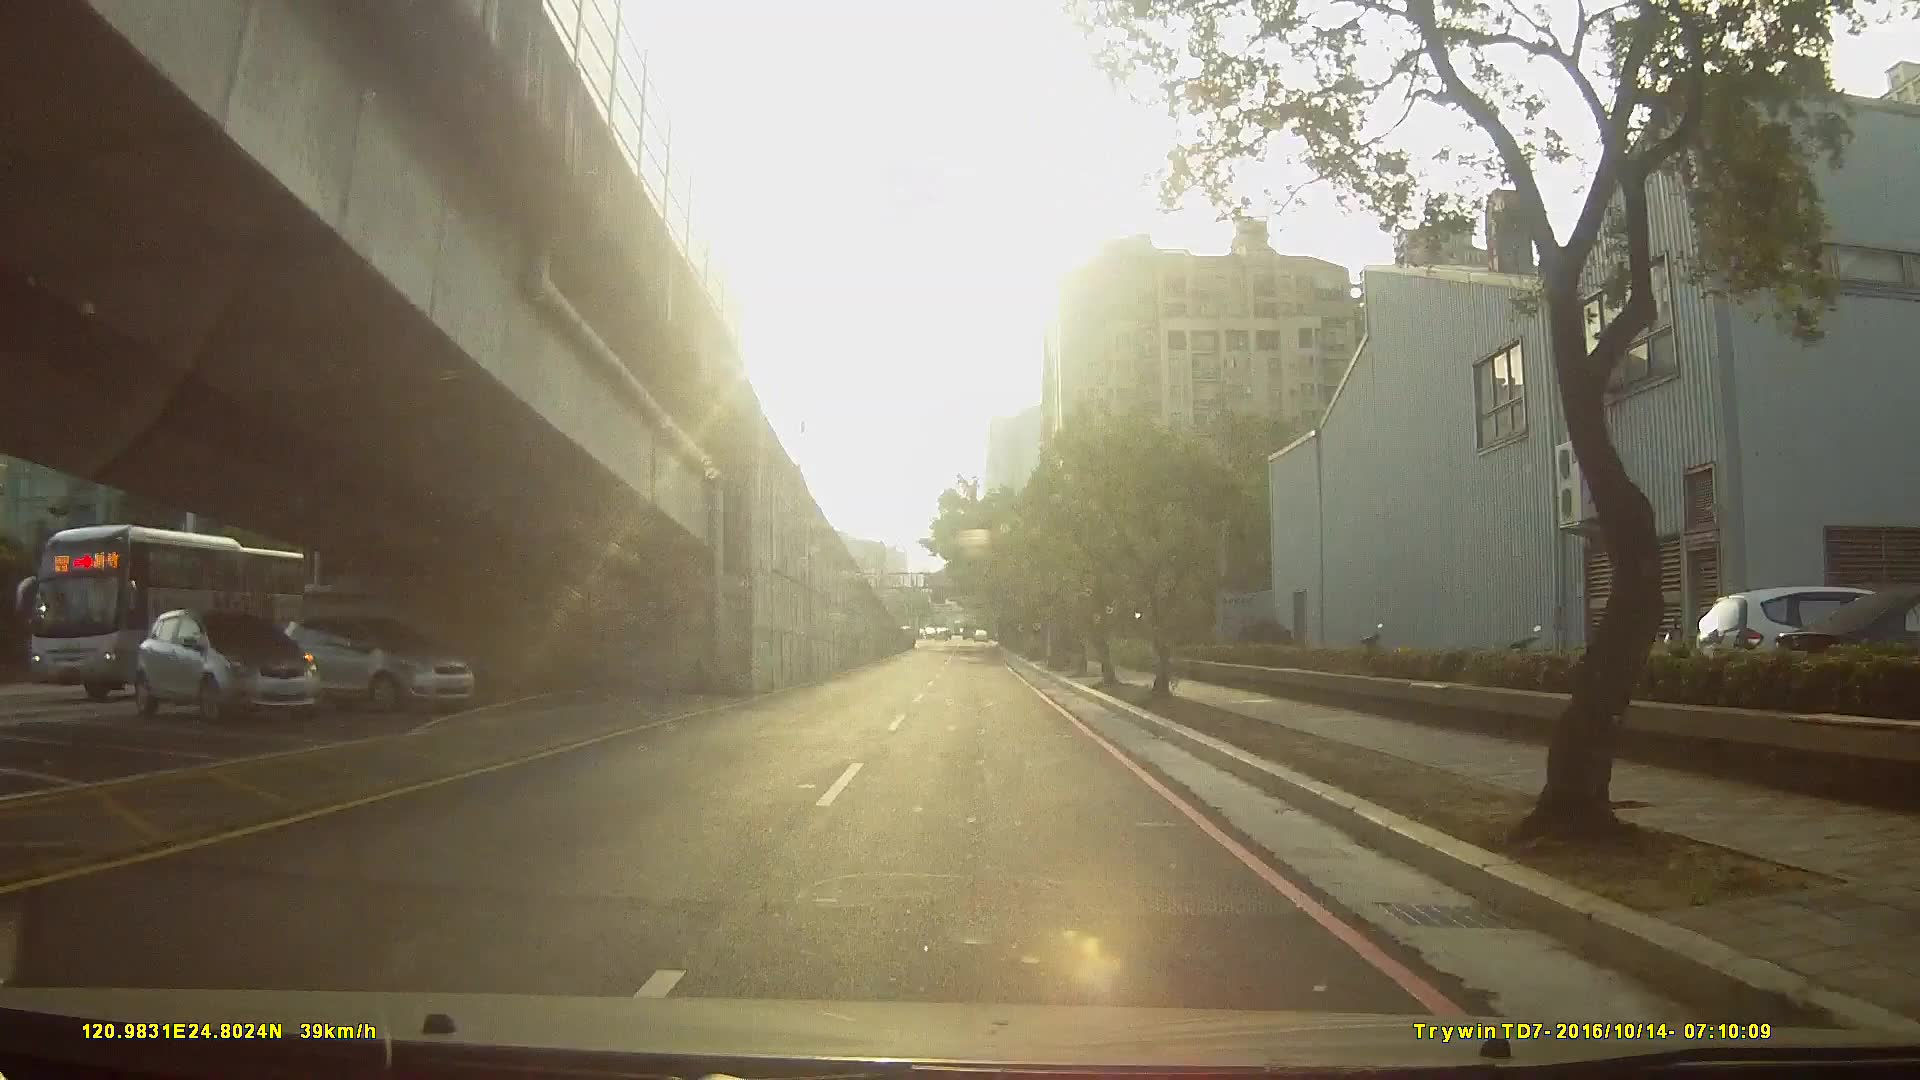vehicle: (18, 513, 310, 708), (255, 611, 492, 713), (120, 603, 307, 723)
